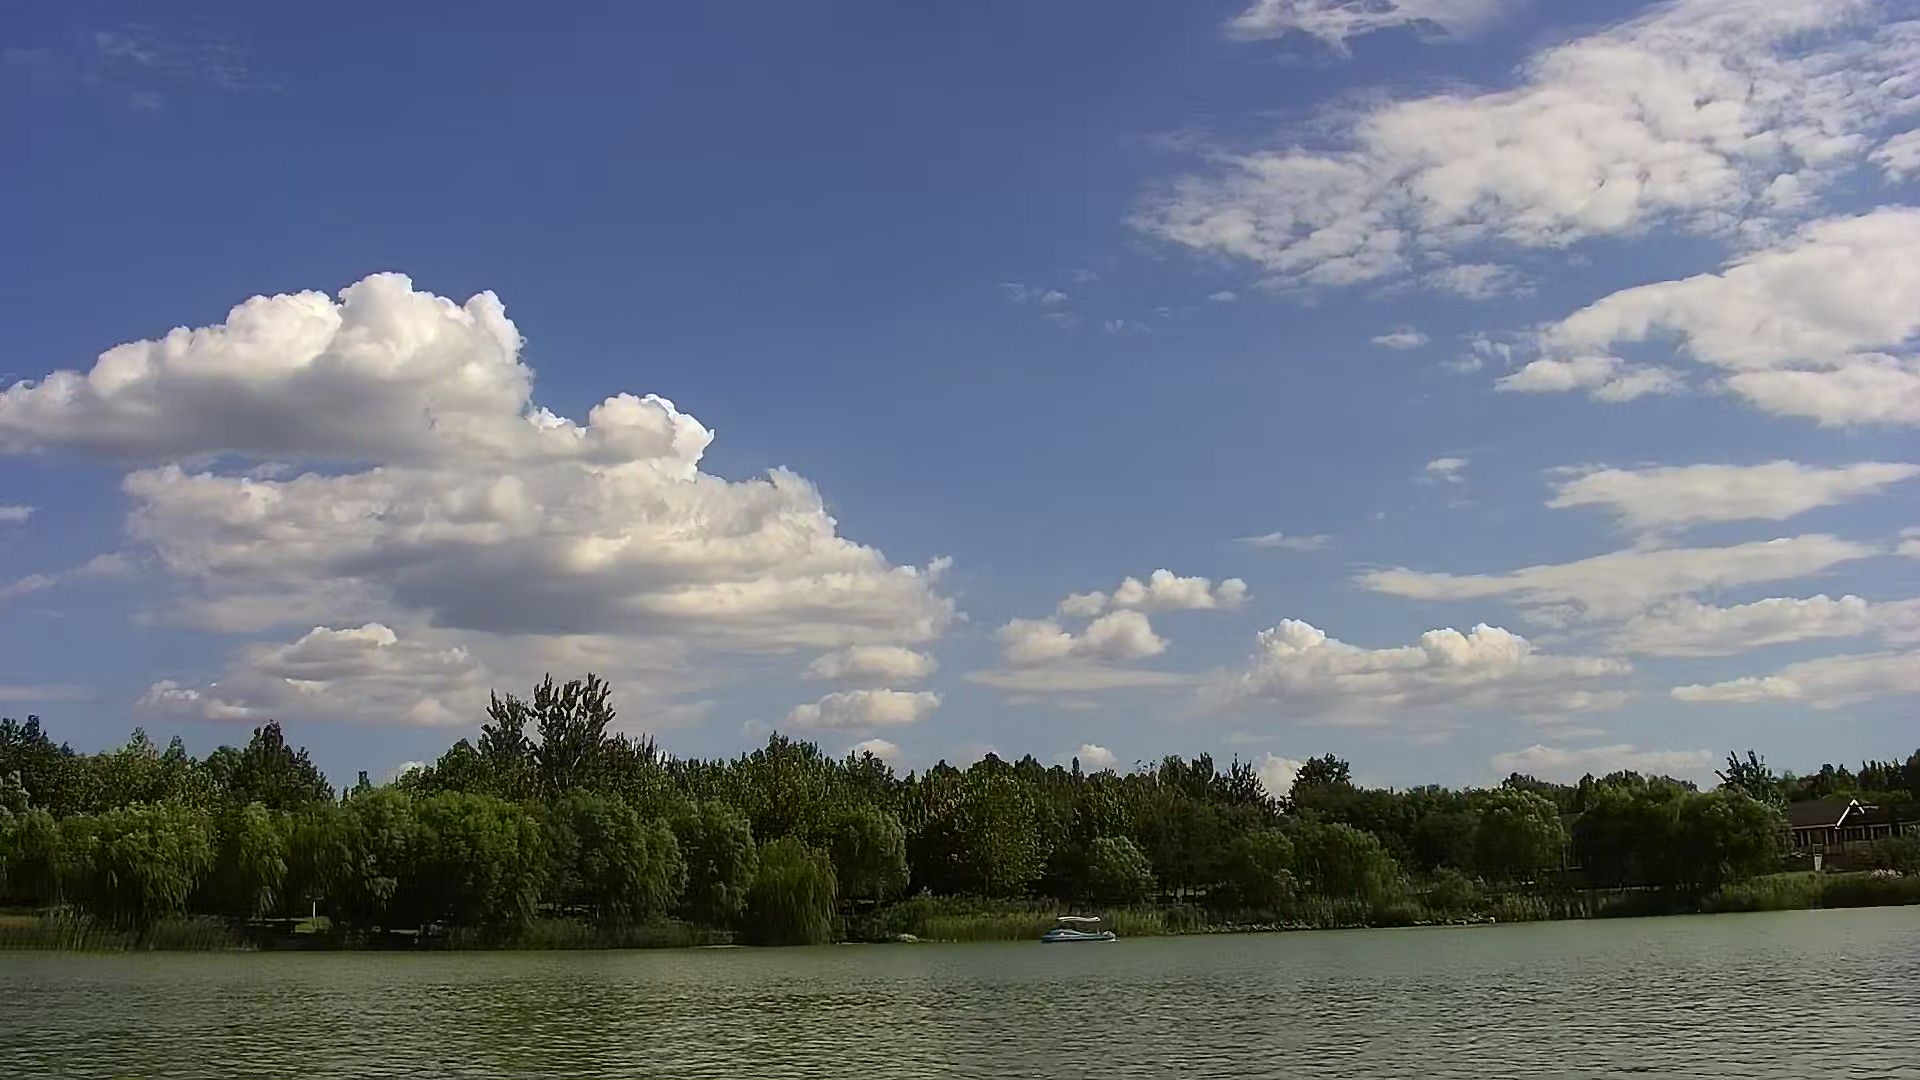boat: (1035, 910, 1124, 949)
